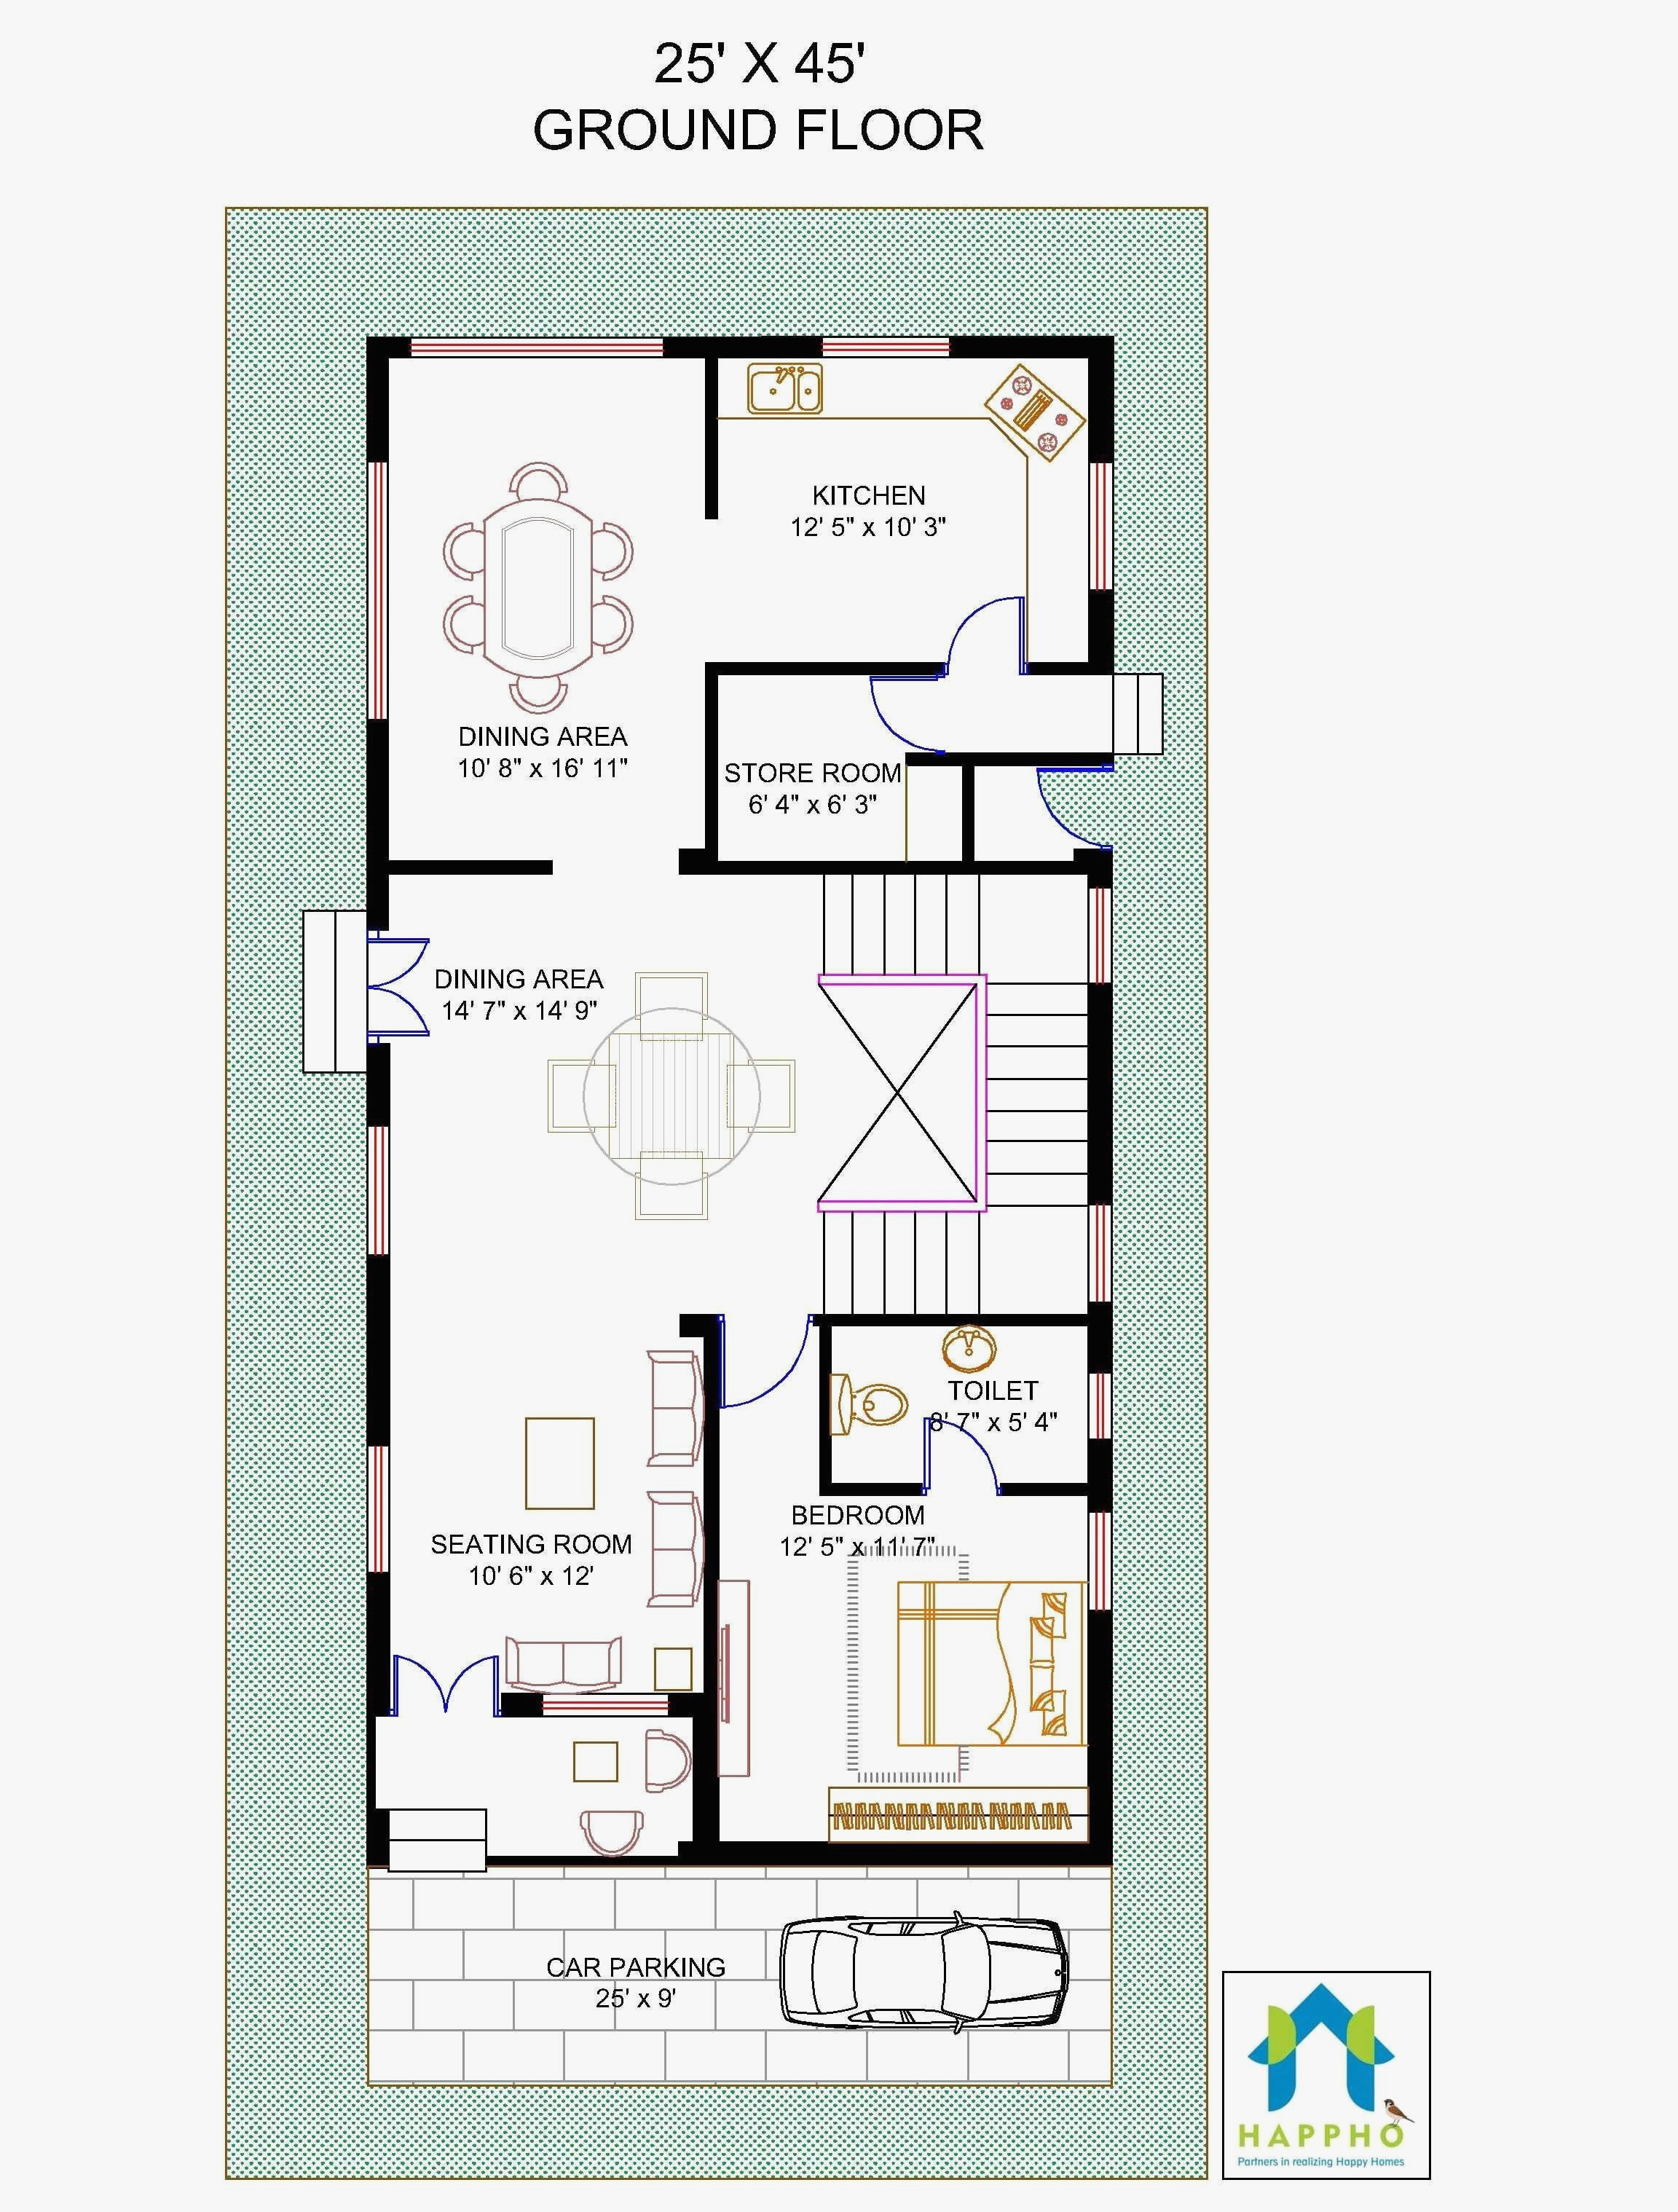window: (363, 460, 393, 723), (409, 335, 666, 361), (1086, 460, 1117, 592), (539, 1690, 672, 1718), (367, 1123, 393, 1257), (367, 1442, 393, 1576), (821, 335, 950, 361), (1084, 1509, 1116, 1614), (1086, 1202, 1116, 1304), (1084, 885, 1112, 987), (1086, 1371, 1116, 1442)
